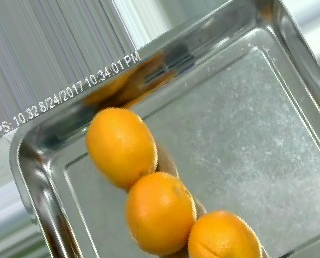Orange: (85, 107, 157, 189), (125, 171, 197, 252), (188, 211, 262, 258)
